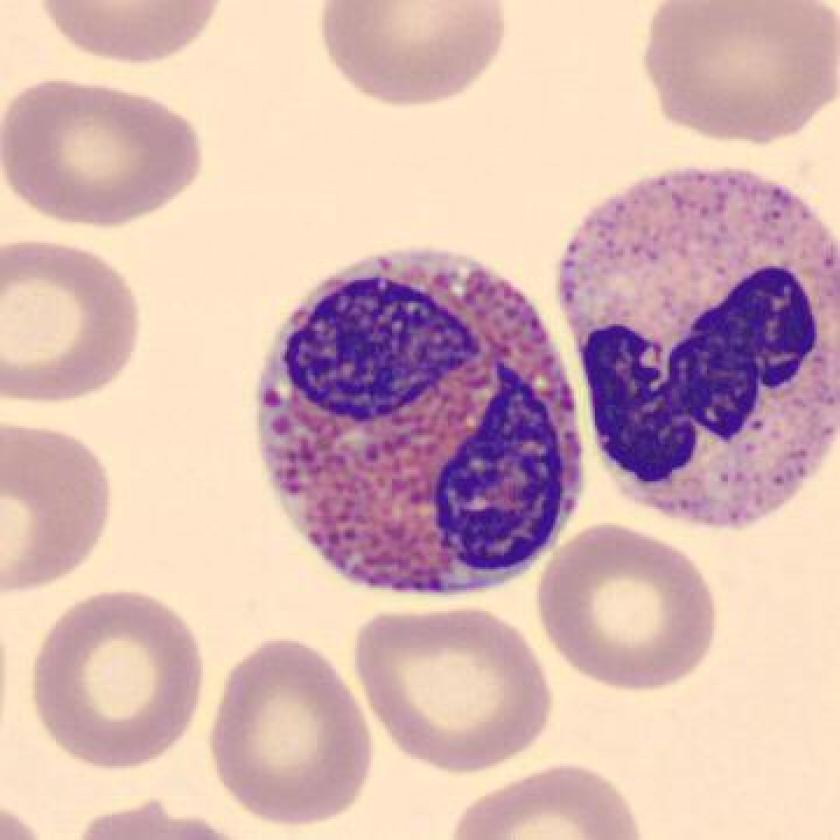eosinophil: (239, 228, 603, 612)
